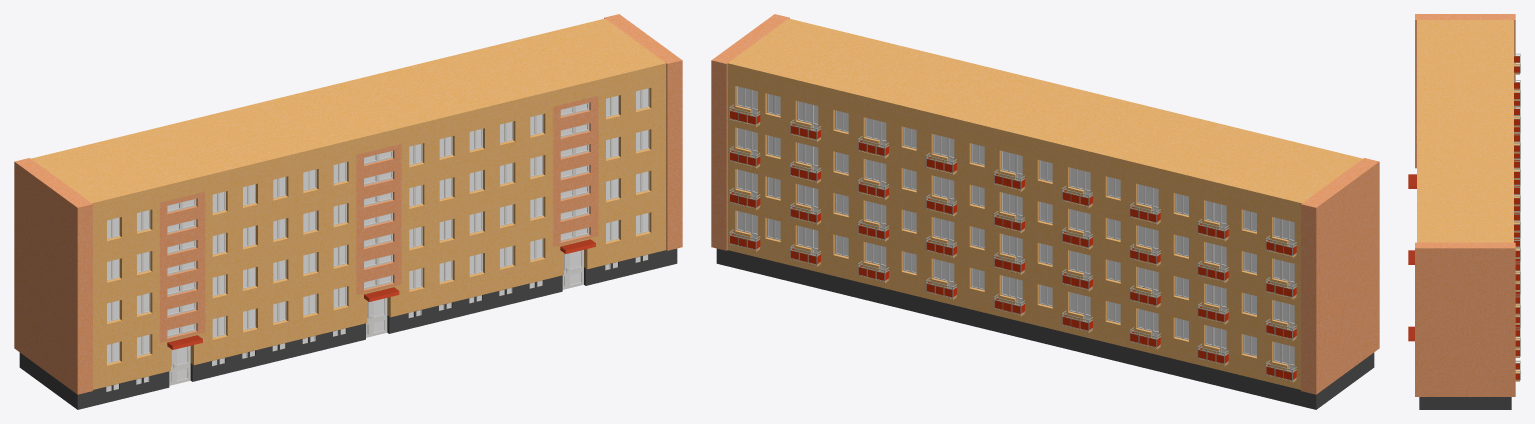
3 views of the same model, side by side, from view 1: azimuth 30°, elevation 25°; view 2: azimuth 150°, elevation 25°; view 3: azimuth 270°, elevation 25° (orthographic). The views are drawn at different scales.
Visible parts, largest first — view 1: Building_6, Window_2.001_19, Window_2_15, Window.001_18, SmallWindow_17, Building.004_20, Window_7, Door_9, Door.001_21, Cover_8, Building.008_23; view 2: Building_6, BalconyWindow.001_24, Panels_2, Railing_1, BackWindow.001_25, BalconyWindow_13, BackWindow_14, Balcony_0, BackWindow_2.001_26, Cover_2_5, Railing_2_4, BackWindow_2_16; view 3: Building_6, Panels_2, Railing_1, Cover_8, Balcony_0, Cover_2_5, Railing_2_4.
Boxes of the visible parts, x1,y1,x2,y2 form: Building_6: (14, 14, 682, 409); Window_2.001_19: (212, 114, 542, 336); Window_2_15: (212, 114, 543, 337); Window.001_18: (107, 88, 647, 362); SmallWindow_17: (167, 103, 589, 337); Building.004_20: (167, 104, 587, 335); Window_7: (107, 88, 649, 363); Door_9: (169, 250, 583, 385); Door.001_21: (170, 250, 580, 382); Cover_8: (167, 239, 595, 349); Building.008_23: (106, 255, 647, 390); Building_6: (711, 14, 1379, 409); BalconyWindow.001_24: (798, 101, 1294, 371); Panels_2: (790, 123, 1296, 380); Railing_1: (790, 119, 1296, 381); BackWindow.001_25: (768, 94, 1256, 355); BalconyWindow_13: (797, 101, 1294, 371); BackWindow_14: (767, 93, 1256, 356); Balcony_0: (791, 134, 1296, 382); BackWindow_2.001_26: (738, 86, 757, 240); Cover_2_5: (730, 109, 760, 249); Railing_2_4: (729, 104, 760, 250); BackWindow_2_16: (736, 86, 757, 240); Building_6: (1415, 14, 1515, 409); Panels_2: (1514, 56, 1519, 355); Railing_1: (1514, 53, 1520, 356); Cover_8: (1408, 174, 1416, 341); Balcony_0: (1514, 63, 1519, 357); Cover_2_5: (1515, 264, 1519, 379); Railing_2_4: (1515, 261, 1520, 380).
Bounding box in the file's own units: 34.29 × 11.08 × 6.94.
17 materials, 12 textured.
